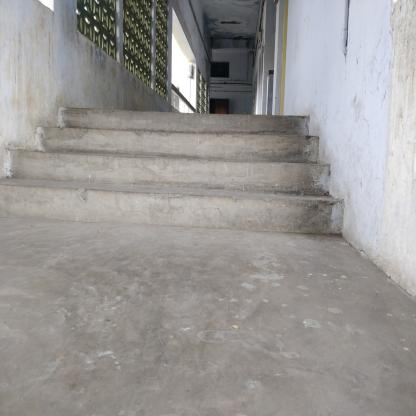stairs: (20, 117, 310, 218)
